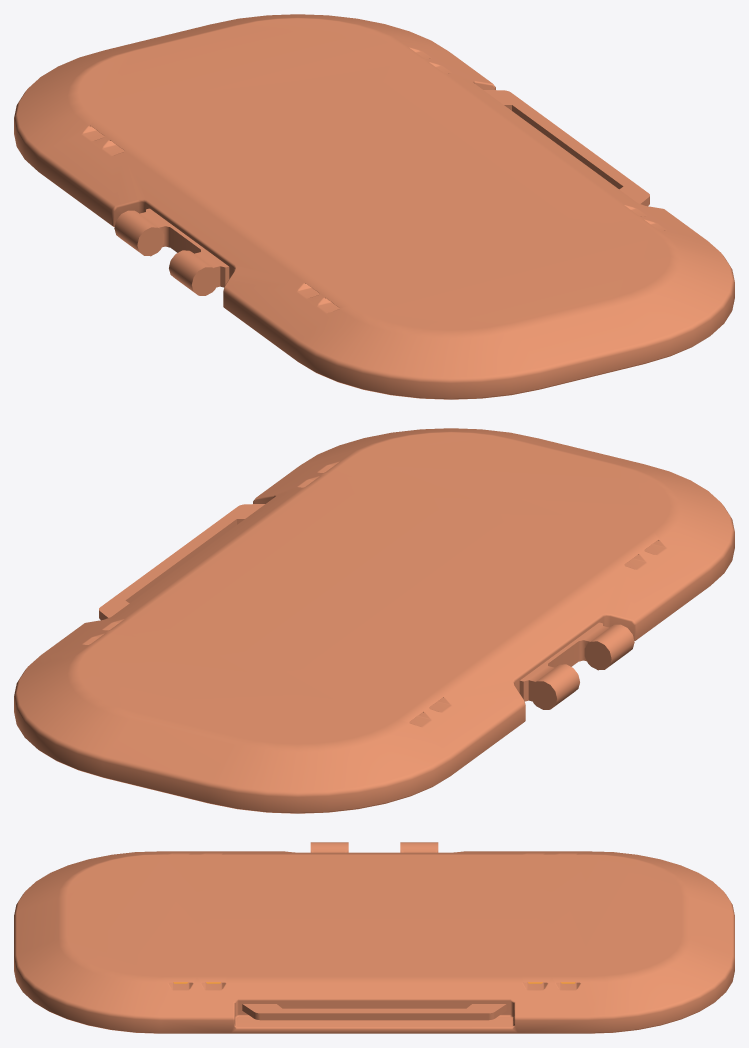
The picture shows the model from 3 angles, top to bottom: view 1: azimuth 30°, elevation 25°; view 2: azimuth 150°, elevation 25°; view 3: azimuth 270°, elevation 25°; orthographic projection. The views are drawn at different scales.
Parts seen in each view (by area): view 1: Box02_02; view 2: Box02_02; view 3: Box02_02.
Boxes of the visible parts, x1=… form: Box02_02: x1=14, y1=14, x2=734, y2=399; Box02_02: x1=14, y1=428, x2=734, y2=813; Box02_02: x1=14, y1=842, x2=734, y2=1033.
Size of the model in its own units: 71.17 by 6.88 by 126.
